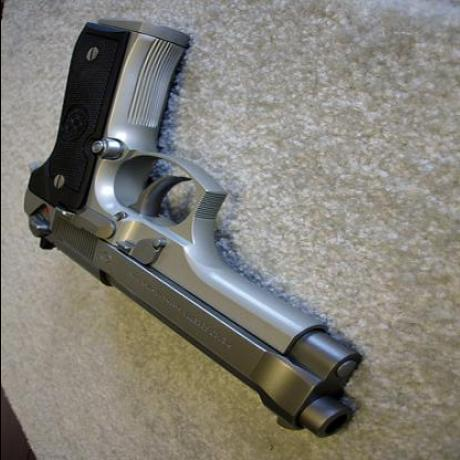weapon: (17, 20, 365, 440)
